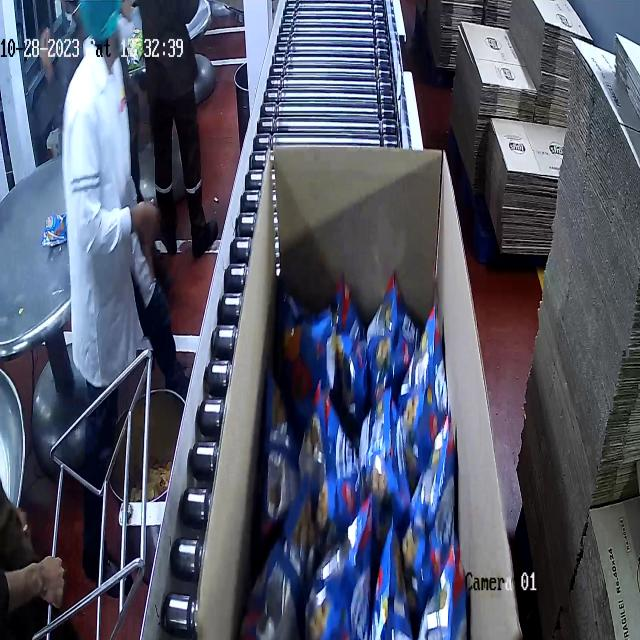PAPRIKA: (262, 301, 460, 640)
